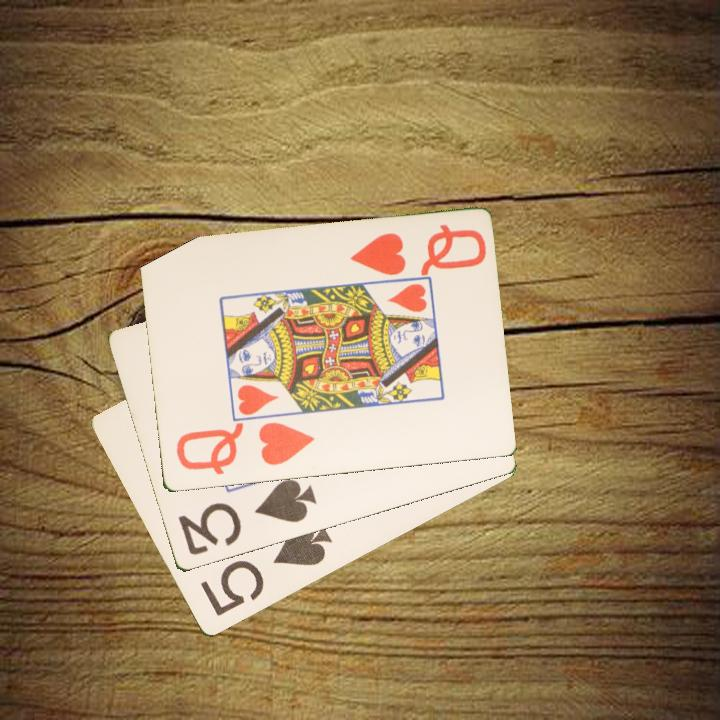3s: (174, 475, 319, 559)
5s: (196, 519, 335, 620)
Qh: (172, 419, 316, 479), (346, 221, 489, 279)
